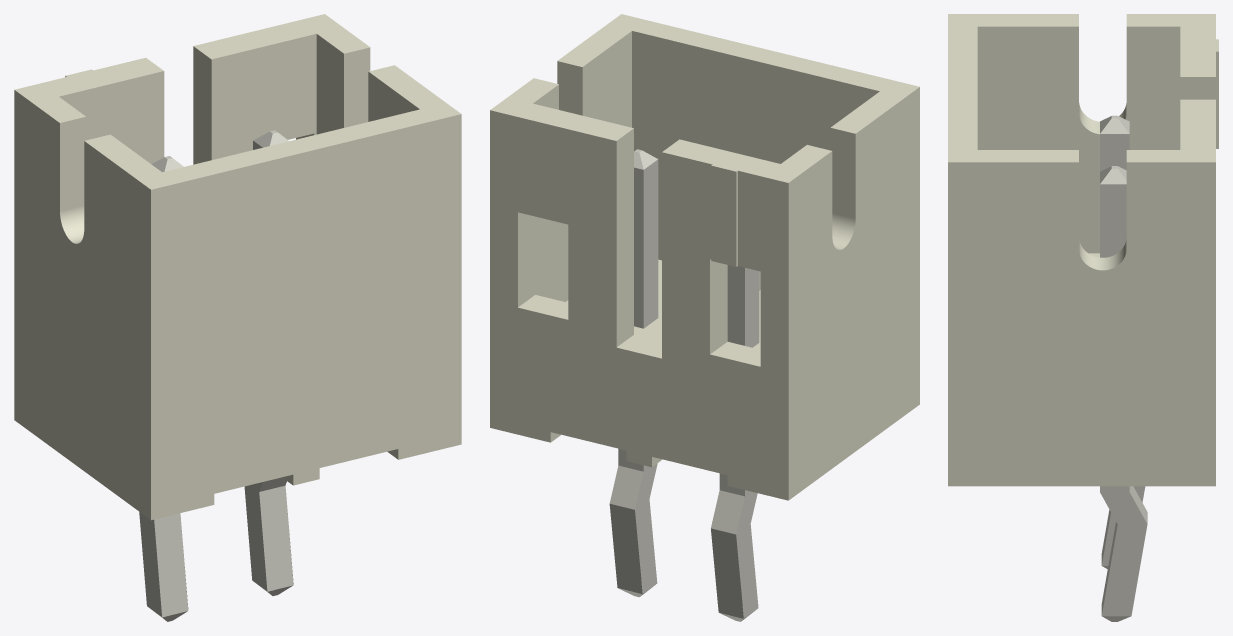
The model's file is jst_ph_b2b_ph_k_1x02_p2_00mm_vertical.glb.
3 renders of one model, left to right at view 1: azimuth 30°, elevation 25°; view 2: azimuth 150°, elevation 25°; view 3: azimuth 270°, elevation 25°, orthographic. The views are drawn at different scales.
Visible parts, largest first — view 1: conn_jst_ph_2p, pin_2, pin_1; view 2: conn_jst_ph_2p, pin_2, pin_1; view 3: conn_jst_ph_2p, pin_2, pin_1.
Boxes of the visible parts, bbox=[...] form: conn_jst_ph_2p: bbox=[14, 14, 461, 520]; pin_2: bbox=[244, 477, 293, 595]; pin_1: bbox=[139, 512, 188, 621]; conn_jst_ph_2p: bbox=[490, 14, 919, 500]; pin_2: bbox=[609, 448, 657, 597]; pin_1: bbox=[711, 473, 758, 621]; conn_jst_ph_2p: bbox=[948, 14, 1218, 486]; pin_2: bbox=[1100, 486, 1147, 621]; pin_1: bbox=[1101, 486, 1145, 568].
Bounding box in the file's own units: 0.0059 × 0.0094 × 0.00455.
